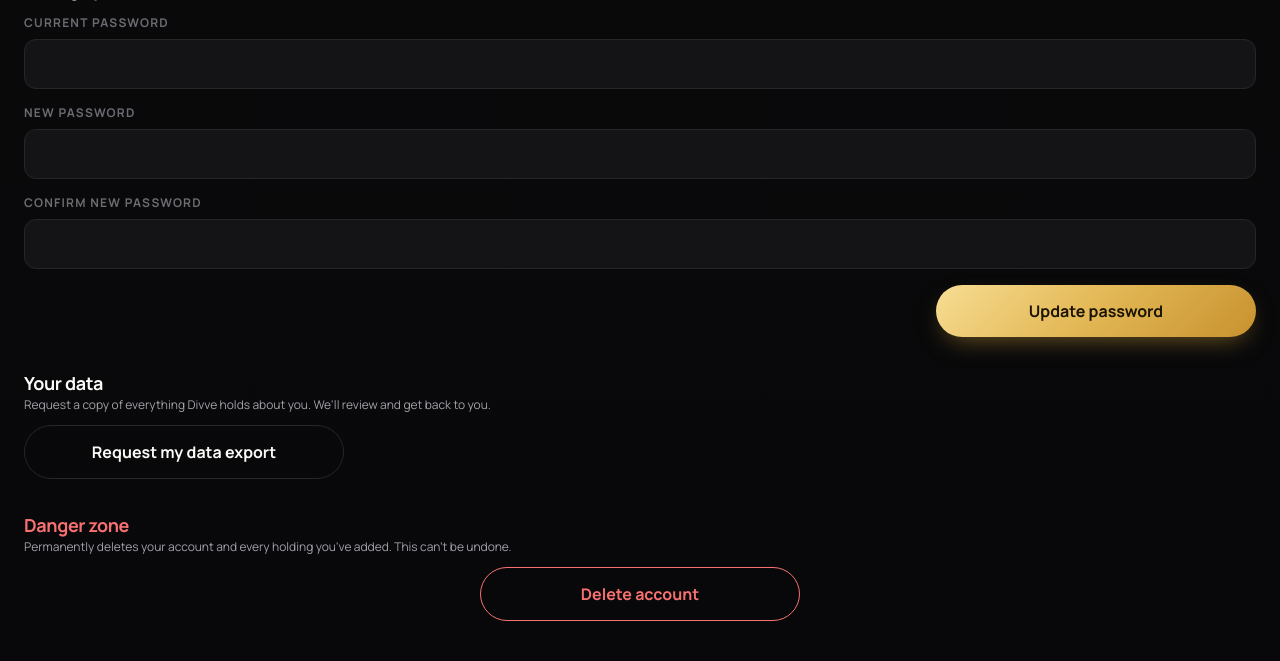
Scenario: Preferences — request my data export › submits a request and shows a confirmation instead of the button
(page scrolled)
Step 1. Click the button with test id "request-data-export-btn" → (184, 452), box [24,425,344,479]
(page scrolled)
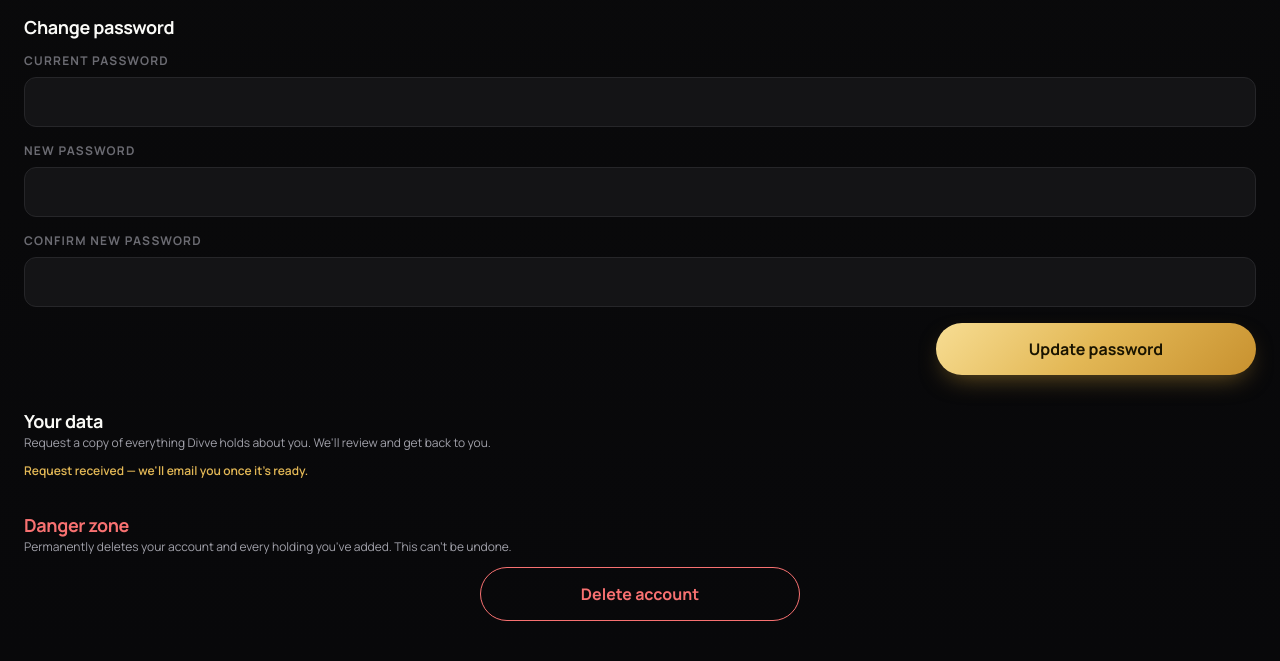
Expected: the text "Request received — we'll email you once it's ready." is shown, [24,462,308,479]
Expected: the button with test id "request-data-export-btn" is gone
